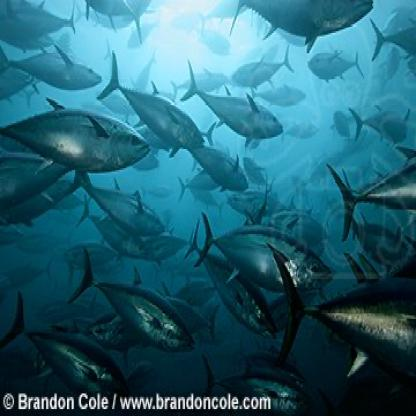tuna: (64, 242, 197, 355), (92, 46, 208, 159), (1, 91, 150, 178), (5, 286, 125, 390), (194, 205, 322, 294), (177, 48, 282, 147), (79, 167, 169, 237), (1, 31, 103, 91), (306, 37, 367, 81)
